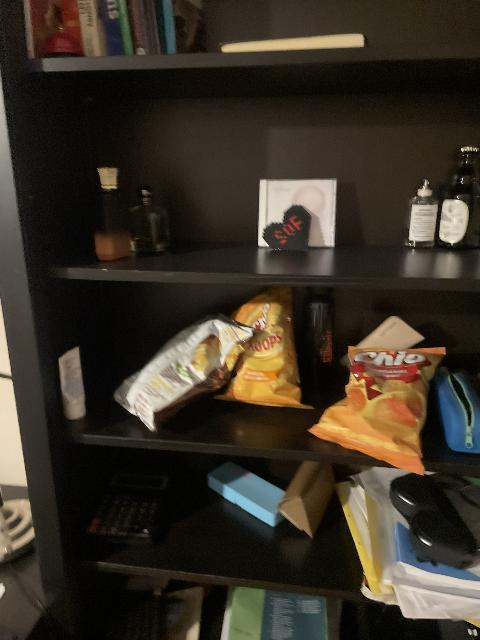Chio Cascaval 125g: (308, 345, 447, 477)
Chio Hula Hoops Cheese 70g: (217, 294, 314, 405)
Lays Beef Grilled Ribs 125g: (112, 317, 258, 431)
